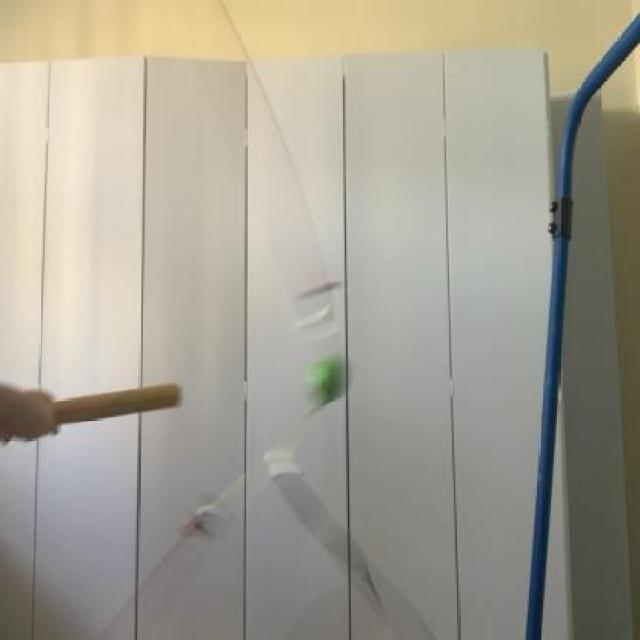baseball: (302, 345, 353, 401)
